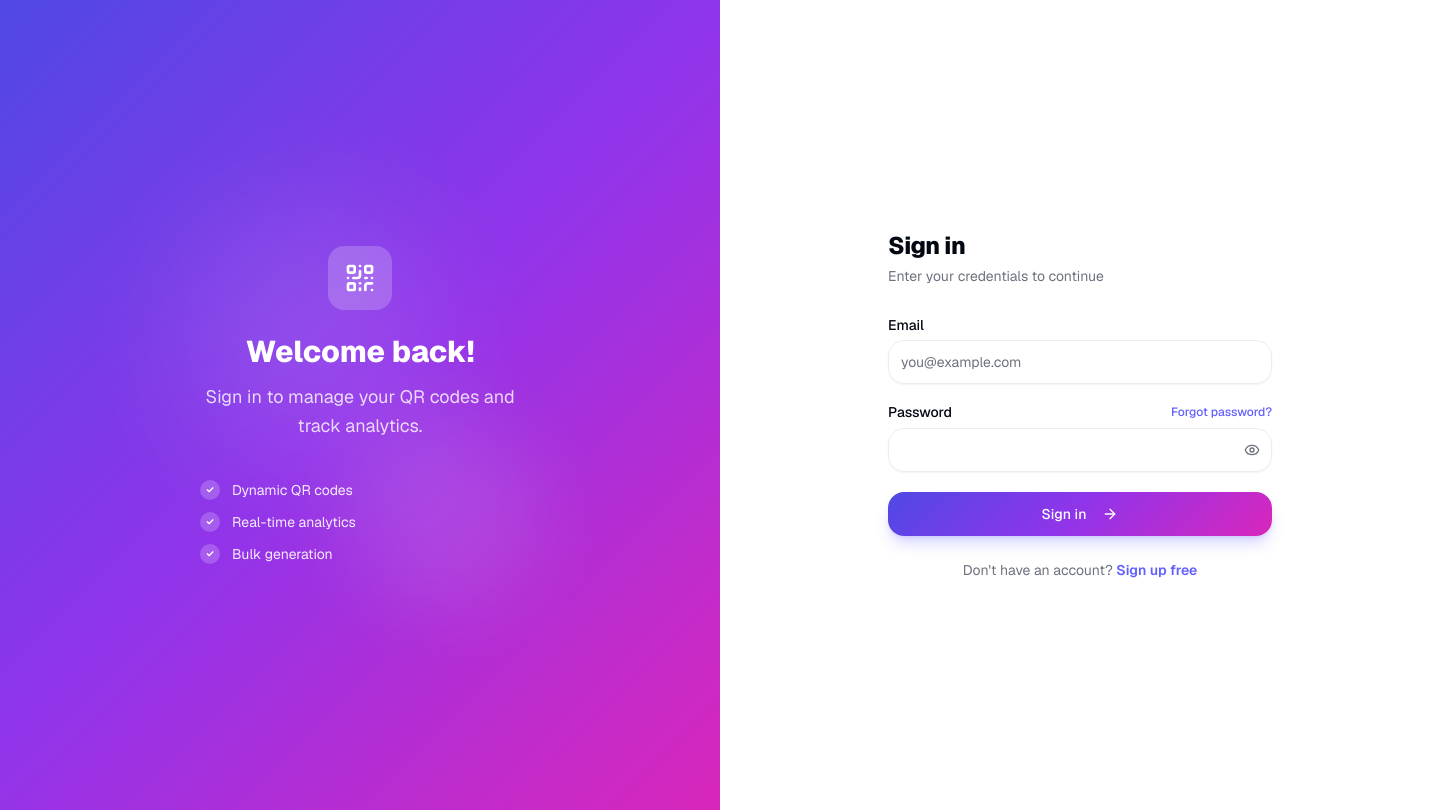
Test case: Login page › displays error message on failed login
In the field labelled "Email": (1080, 362) x1=888 y1=340 x2=1272 y2=384, type "user@example.com"
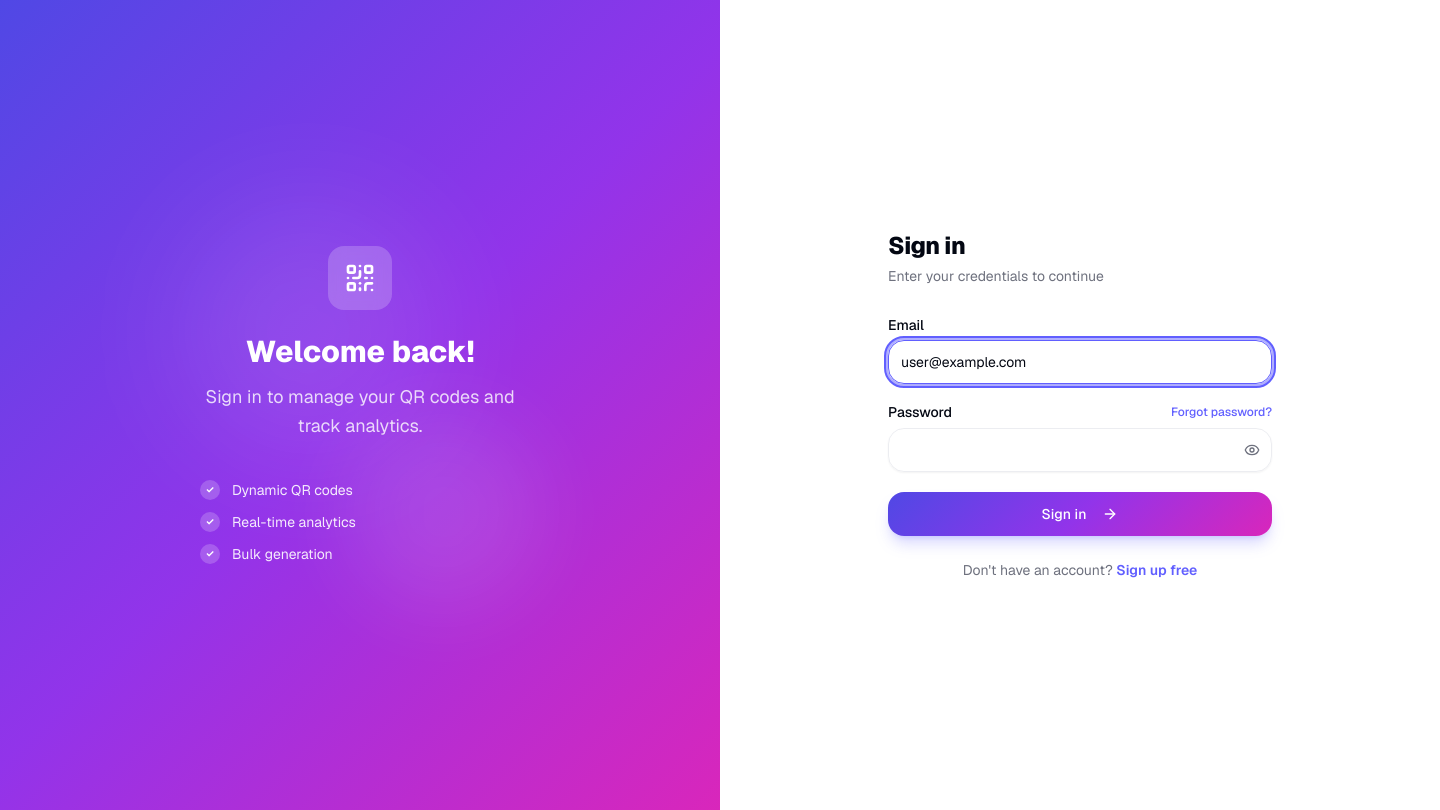
In the password field labelled "Password": (1080, 450) x1=888 y1=428 x2=1272 y2=472, type "Password1!"
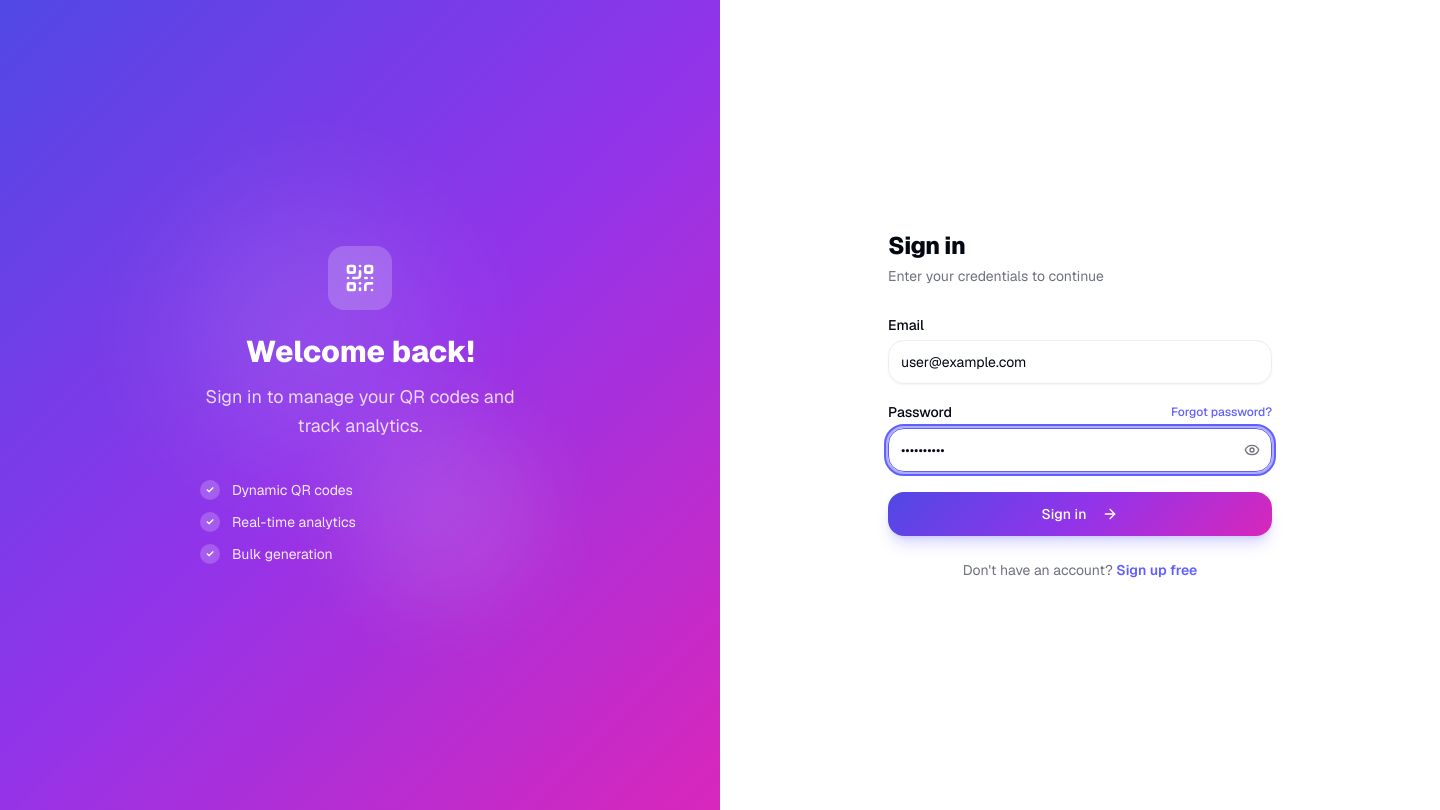
Click the button "Sign in": (1080, 514) x1=888 y1=492 x2=1272 y2=536
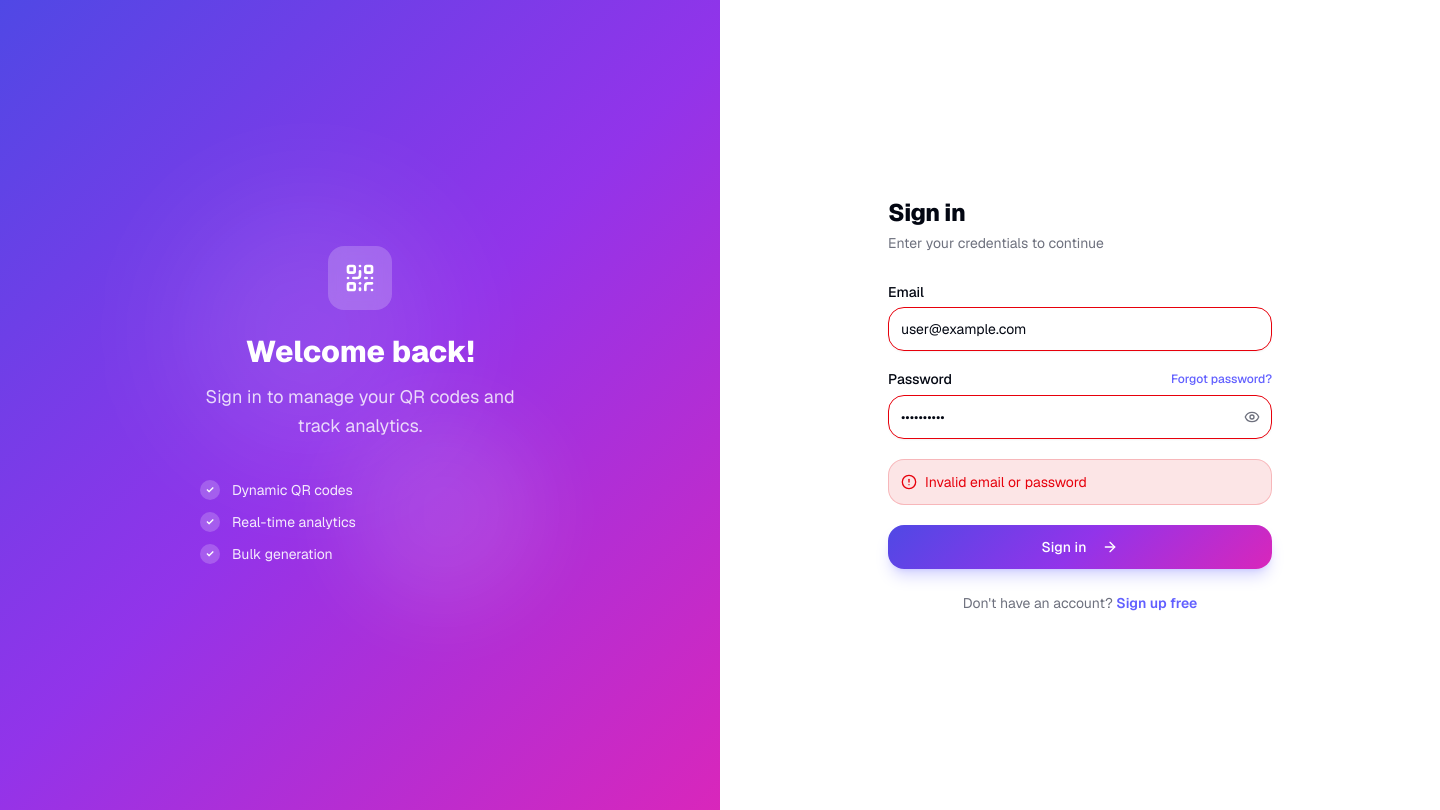
Result: the text "Invalid email or password" is shown at x1=925 y1=472 x2=1087 y2=492
